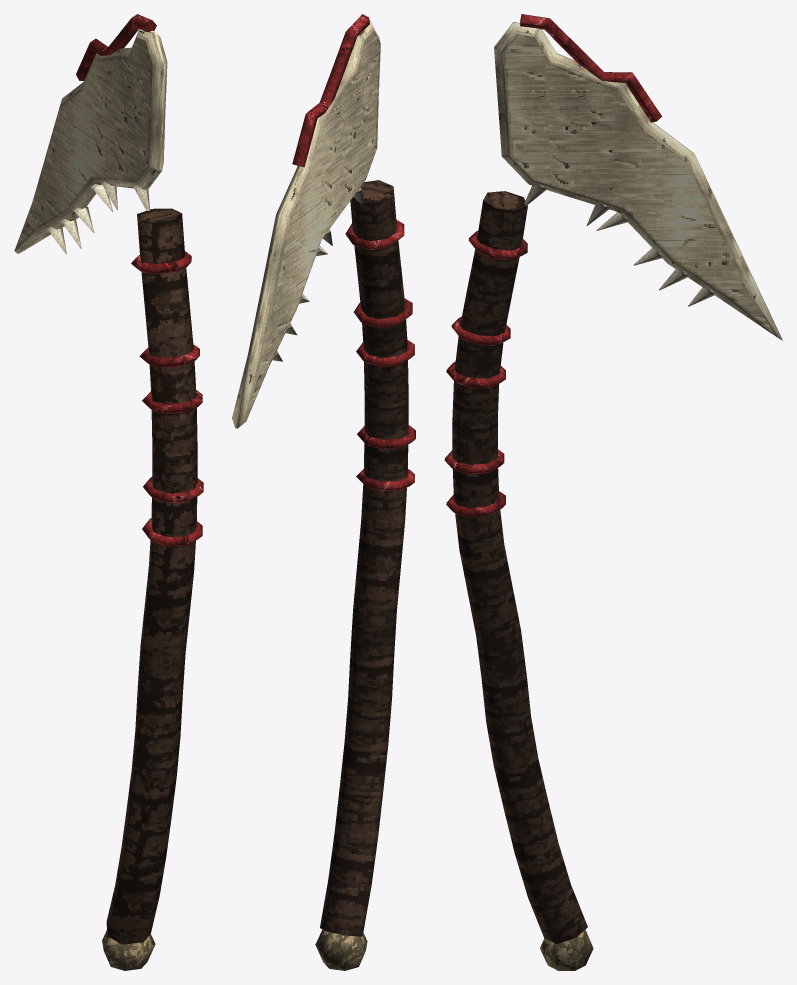
Rendered from wolfjaw_sickle.glb.
The picture shows the model from 3 angles, left to right: view 1: azimuth 30°, elevation 25°; view 2: azimuth 150°, elevation 25°; view 3: azimuth 270°, elevation 25°; orthographic projection. The views are drawn at different scales.
Parts seen in each view (by area): view 1: wolfjaw_sickle; view 2: wolfjaw_sickle; view 3: wolfjaw_sickle.
Part boxes in pixels (x1,y1,x2,y2): wolfjaw_sickle: (14, 14, 203, 970); wolfjaw_sickle: (232, 14, 415, 970); wolfjaw_sickle: (444, 14, 782, 970).
Size of the model in its own units: 0.04 by 0.6897 by 0.2209.
1 material, 1 textured.
